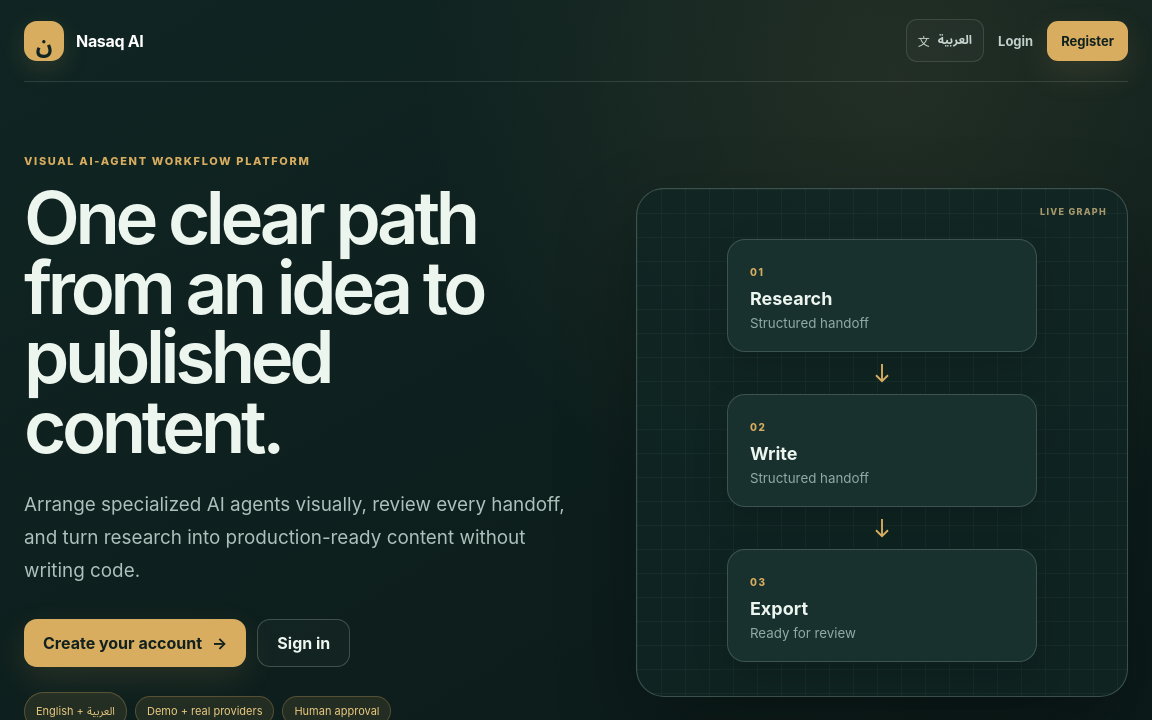
it: Nasaq application shell and persisted workflow editor › switches the full document to Arabic RTL and persists the choice
Click the button with aria-label "switch to العربية".
click(945, 40)  # box [906, 19, 984, 62]
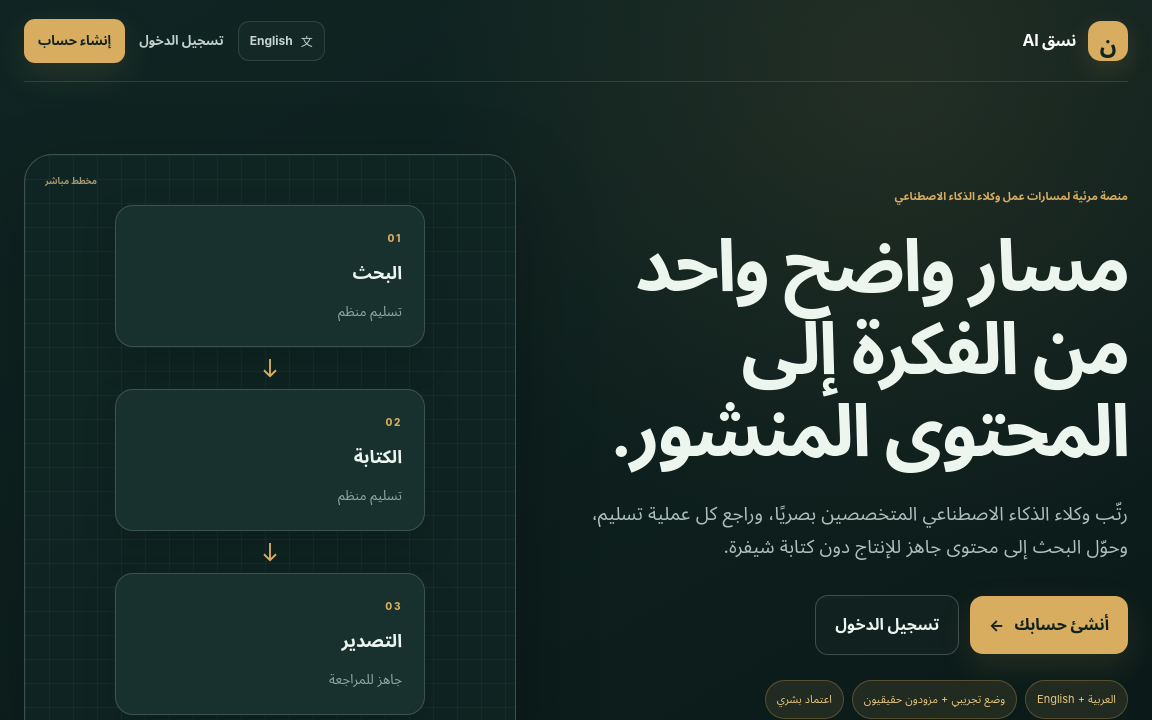
Check: the heading "مسار واضح واحد من الفكرة إلى المحتوى المنشور." is shown, box [584, 224, 1128, 472]
